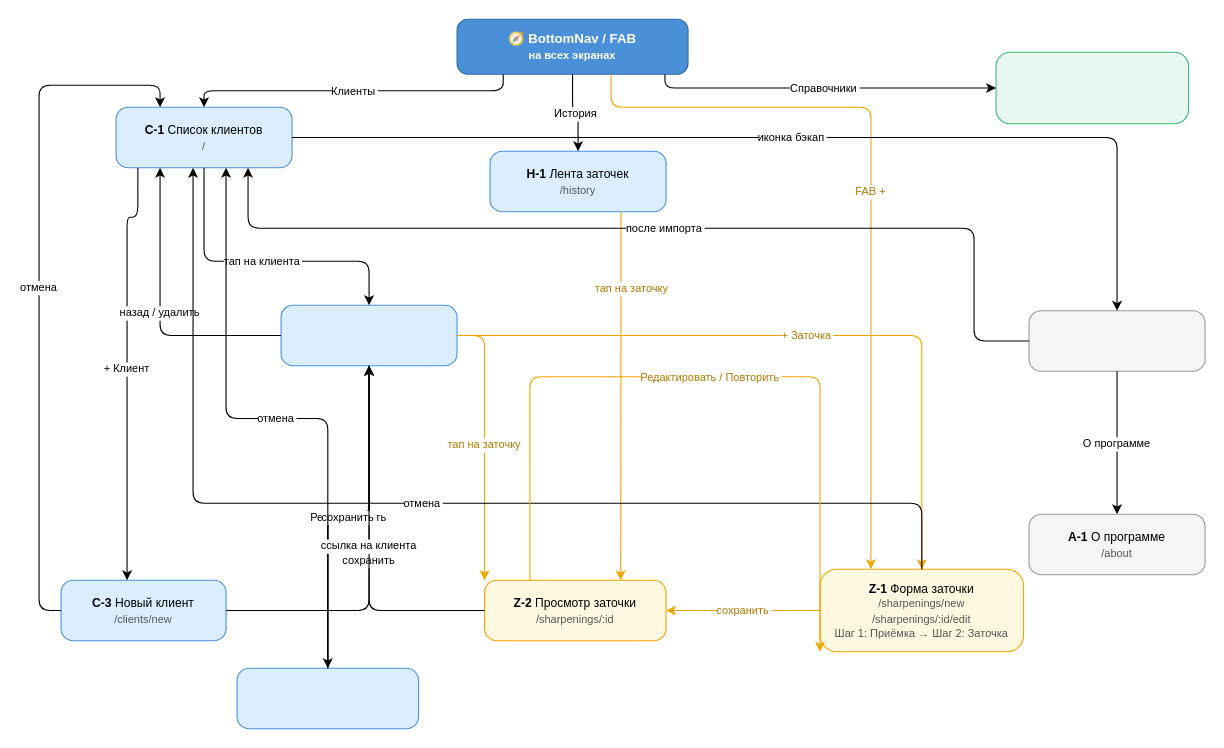
This 1224x748 diagram has some shape labels left out. Each missing label, with the centre of its shape:
"BK-1 Бэкап /backup" belongs at pixel 1116 340.
"C-2 Карточка клиента /clients/:id" belongs at pixel 368 335.
"C-3 Редактировать клиента /clients/:id/edit" belongs at pixel 327 698.
"S-1/2/3 Справочники /reference/:tab stones / steels / knives" belongs at pixel 1092 87.
